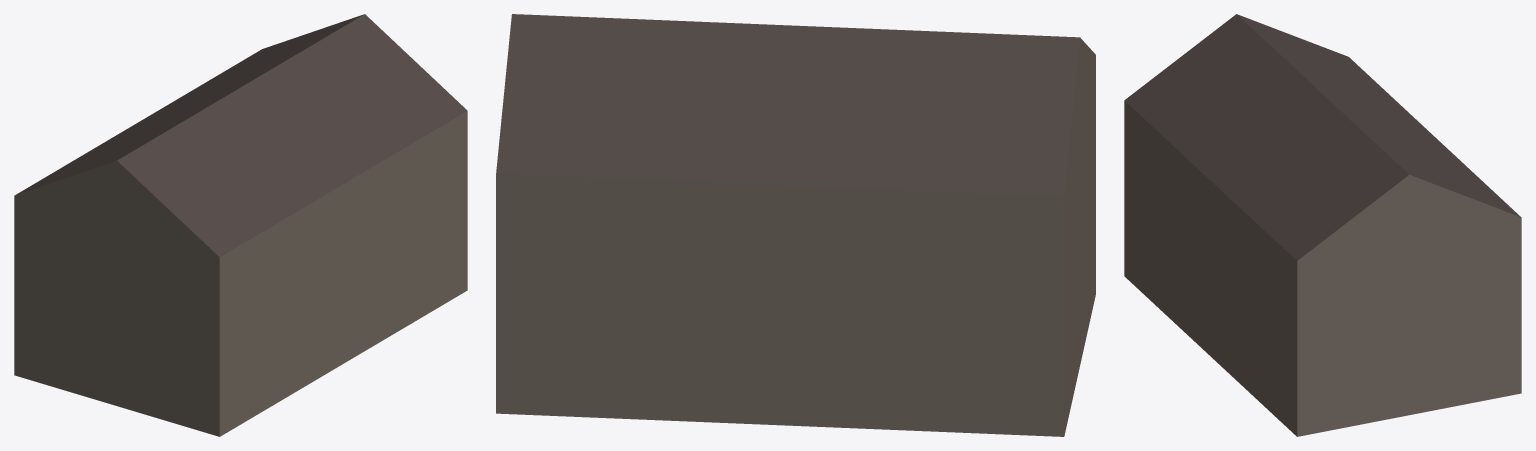
The picture shows the model from 3 angles, left to right: view 1: azimuth 30°, elevation 25°; view 2: azimuth 150°, elevation 25°; view 3: azimuth 270°, elevation 25°; orthographic projection. The views are drawn at different scales.
Parts seen in each view (by area): view 1: HP-w859082454; view 2: HP-w859082454; view 3: HP-w859082454.
Part boxes in pixels (left/top/right/bottom): HP-w859082454: left=14, top=14, right=467, bottom=436; HP-w859082454: left=496, top=14, right=1095, bottom=436; HP-w859082454: left=1124, top=14, right=1521, bottom=436.
Size of the model in its own units: 14.94 by 8.2 by 12.28.
